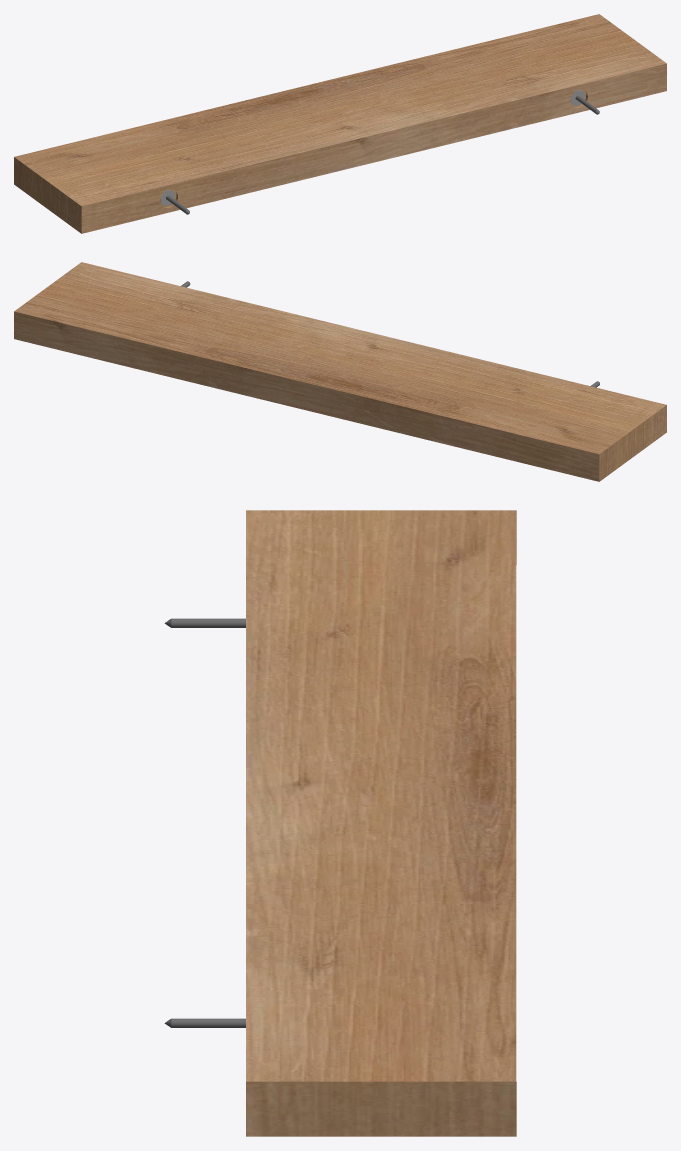
The model's file is solid_oak_floating_shelf.glb.
3 renders of one model, top to bottom at view 1: azimuth 30°, elevation 25°; view 2: azimuth 150°, elevation 25°; view 3: azimuth 270°, elevation 25°, orthographic. The views are drawn at different scales.
Parts seen in each view (by area): view 1: Material2, Material3; view 2: Material2, Material3; view 3: Material2, Material3.
Part boxes in pixels (x1=…): Material2: x1=14, y1=14, x2=666, y2=233; Material3: x1=14, y1=157, x2=81, y2=233; Material2: x1=14, y1=262, x2=666, y2=481; Material3: x1=599, y1=405, x2=666, y2=481; Material2: x1=246, y1=510, x2=516, y2=1081; Material3: x1=246, y1=1081, x2=516, y2=1136.
Size of what is drawn, in the model's own units: 39.37 by 1.77 by 10.25.
6 materials, 2 textured.
